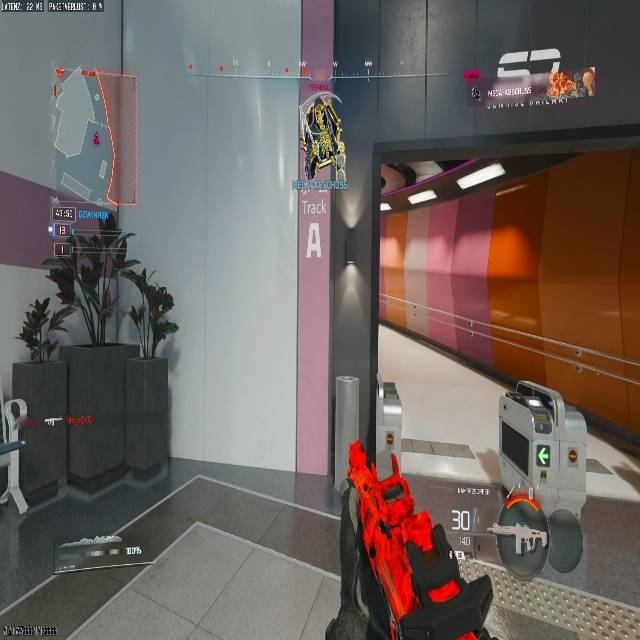player: (21, 227, 178, 362)
